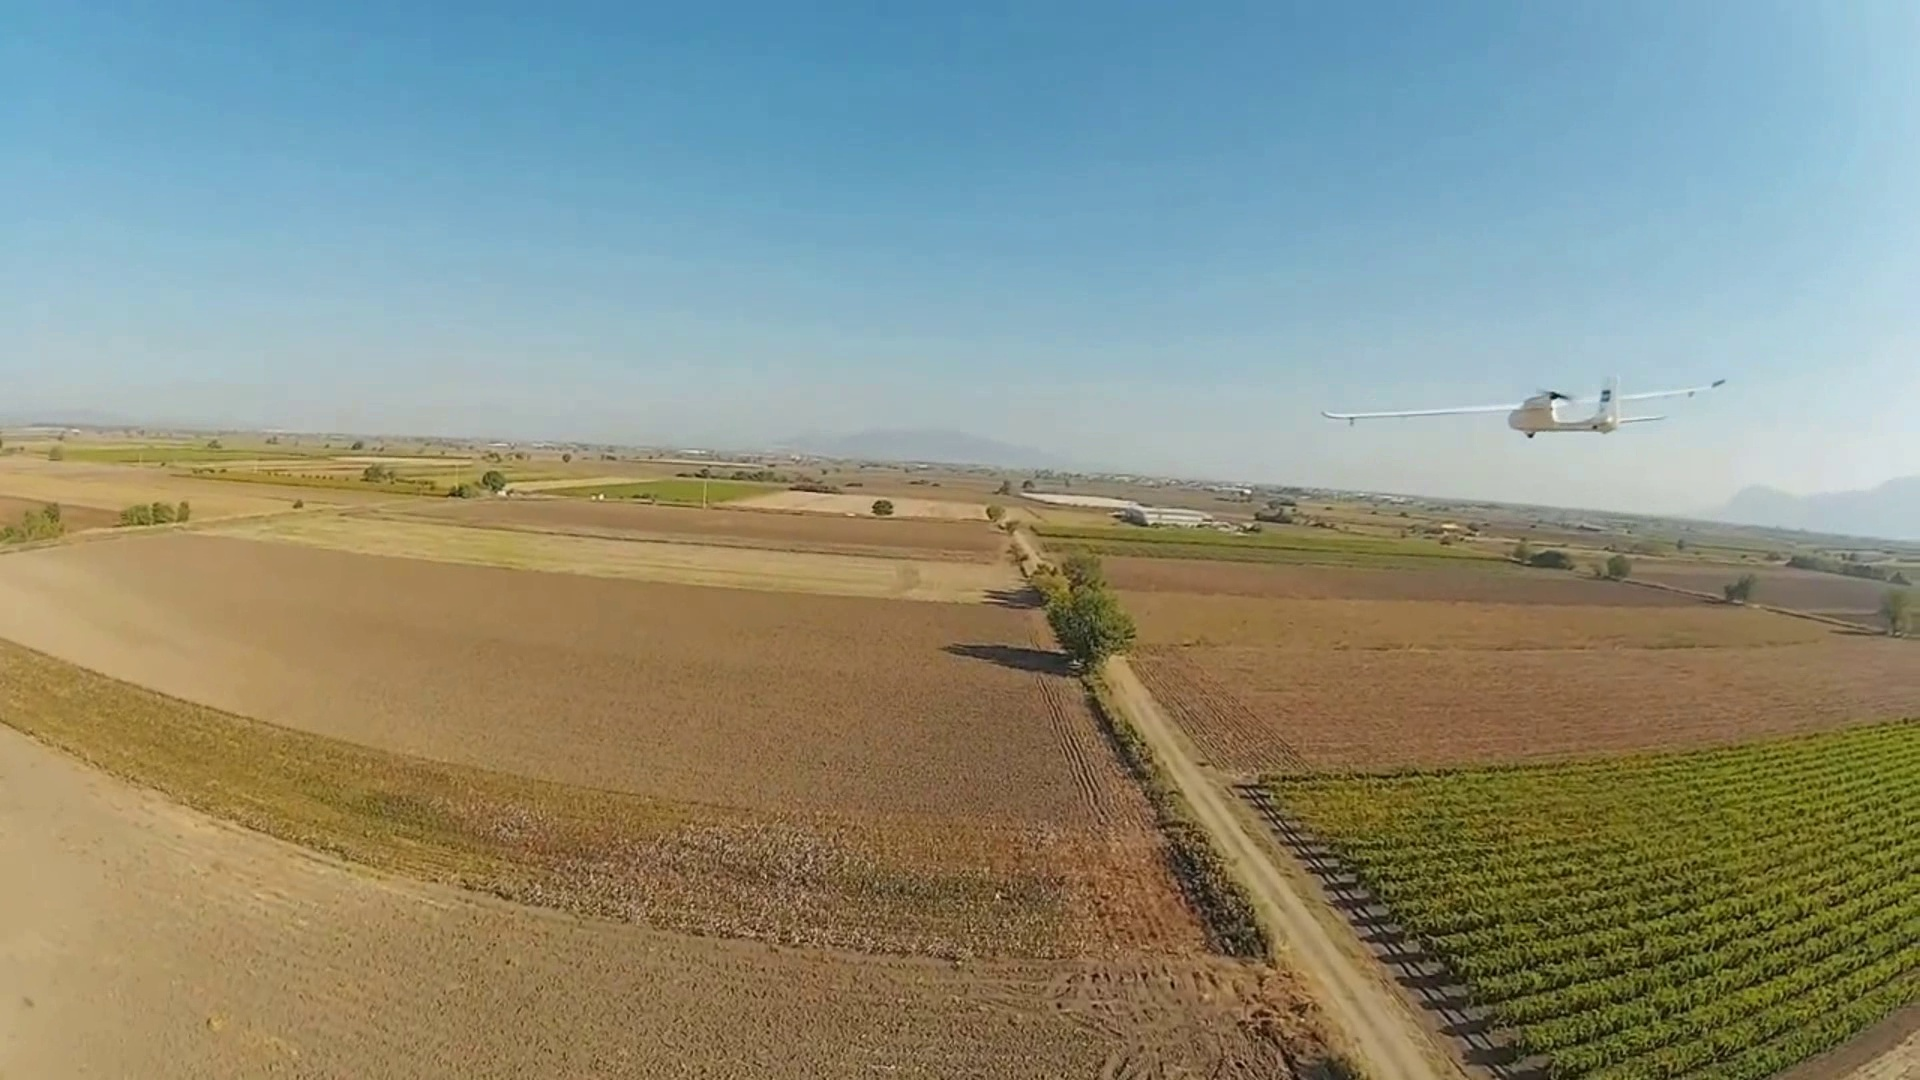airplane: (1318, 366, 1729, 436)
